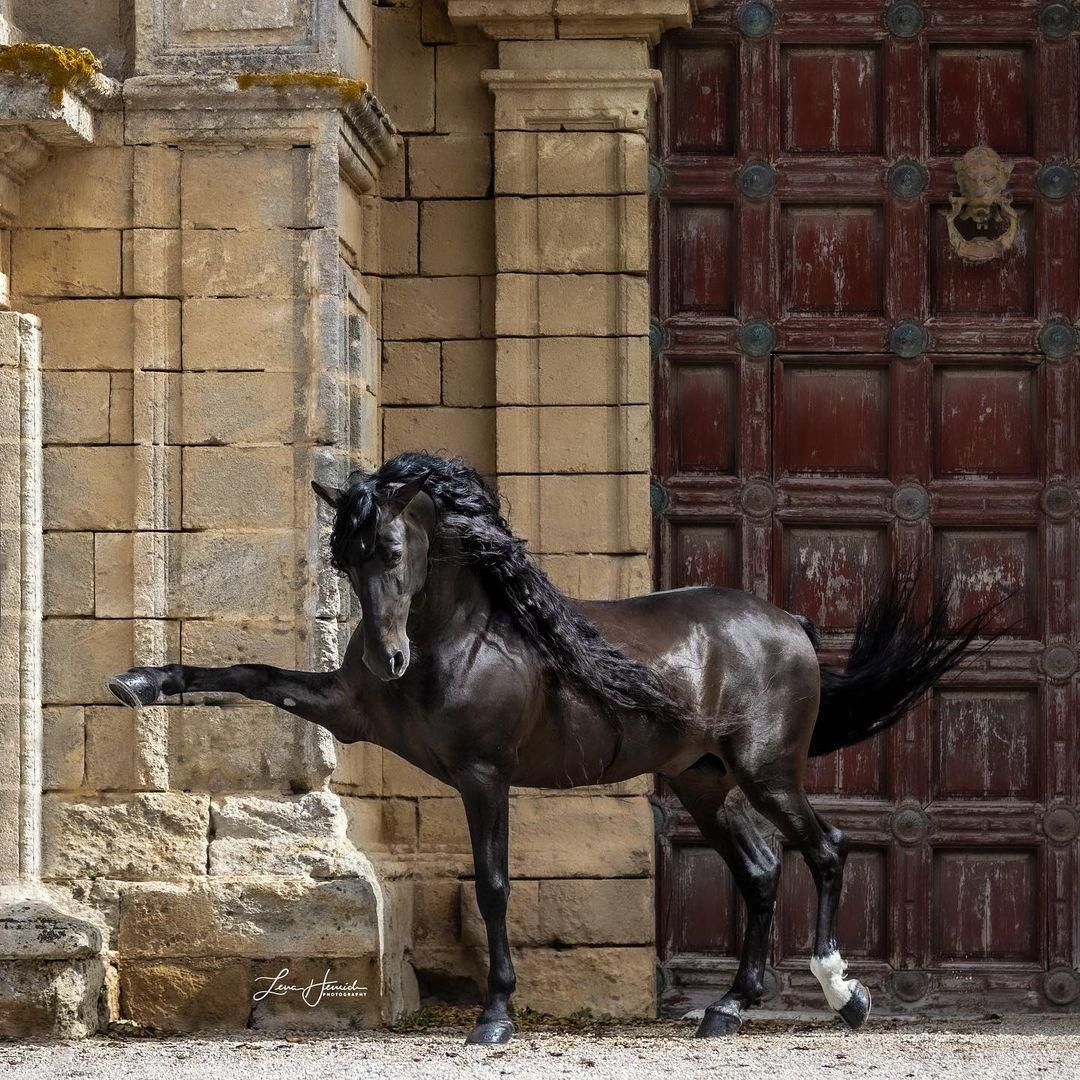horse: (105, 448, 1021, 1047)
